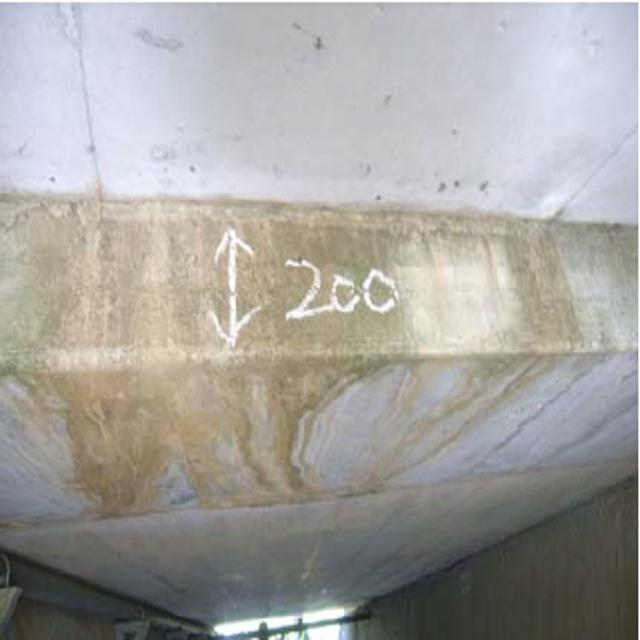leakage: (17, 200, 553, 533)
